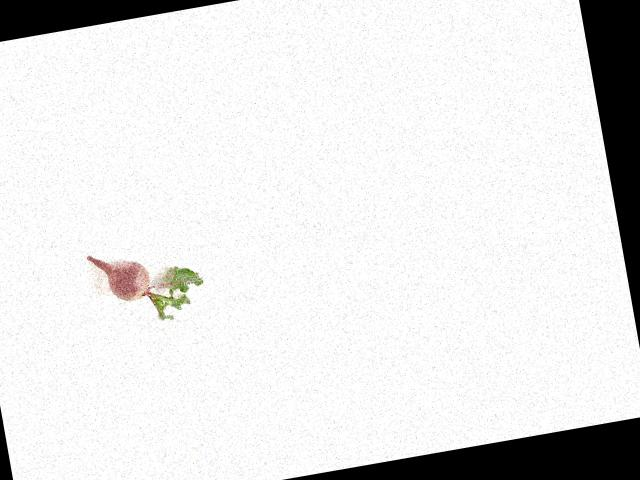beet: (87, 237, 209, 332)
